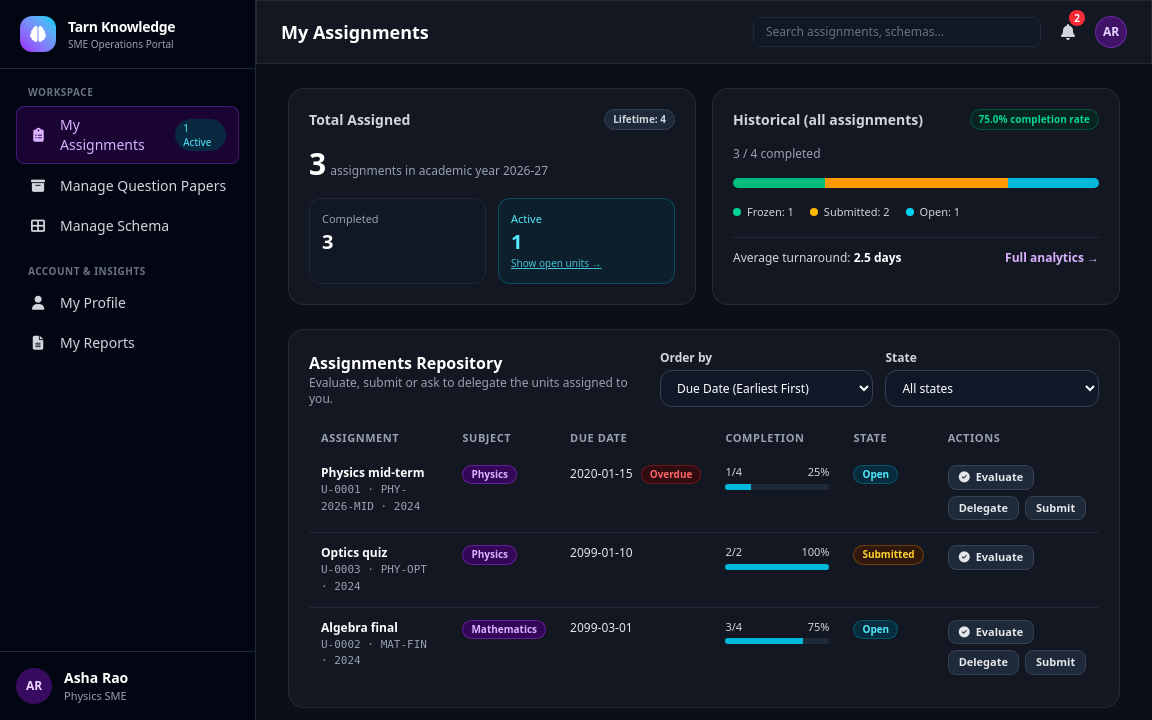
the notification bell (P37, D227) › shows the unread count and lists the notices in a panel
Click the button named "Notifications, 2 unread" at x=1068, y=32, box [1053, 12, 1083, 52]
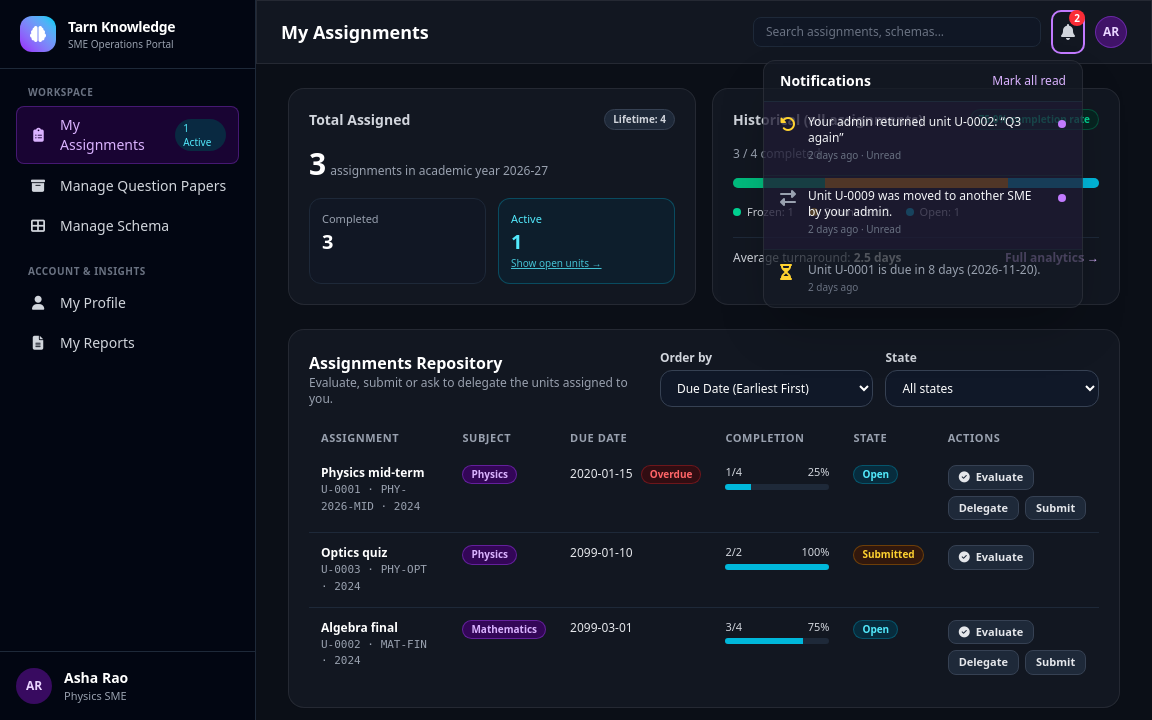
Expected: the 2nd list item shows "Your admin returned unit U-0002: “Q3 again”", [764, 102, 1082, 175]
Expected: the 2nd list item shows "Unread", [764, 102, 1082, 175]
Expected: the 4th list item shows "Unit U-0009 was moved to another SME", [764, 176, 1082, 249]
# Escape closes the panel and gives focus back to the bell.
Press Escape
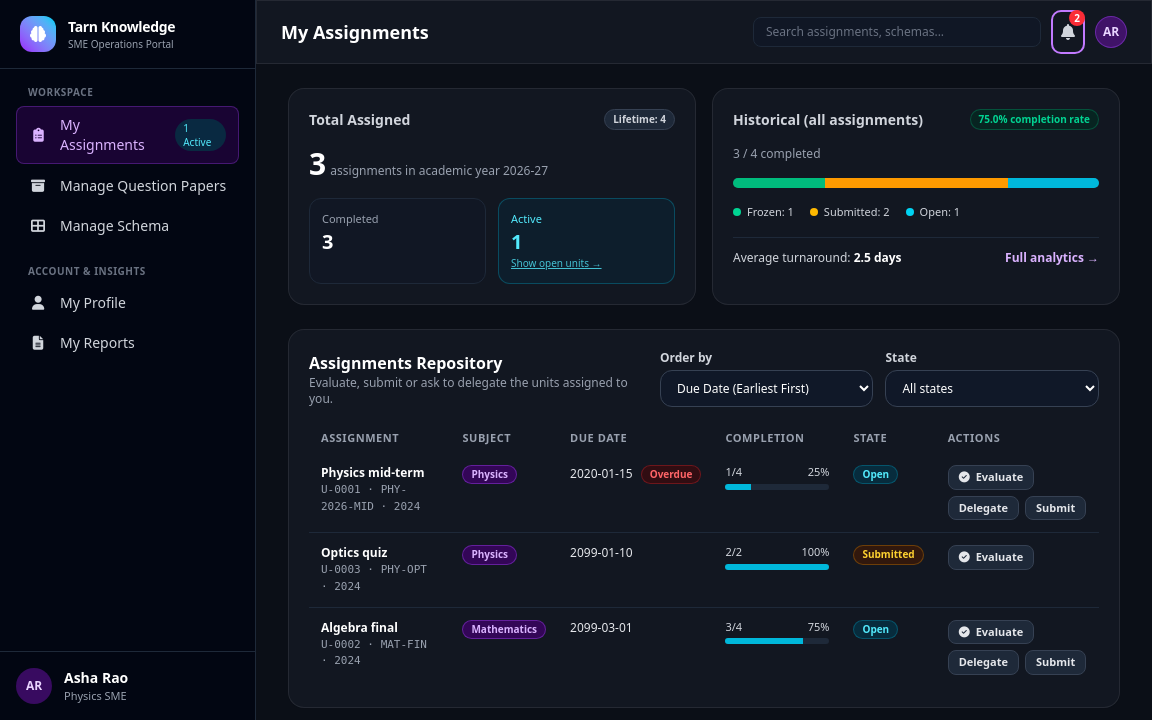
Expected: the text "Notifications" is gone
